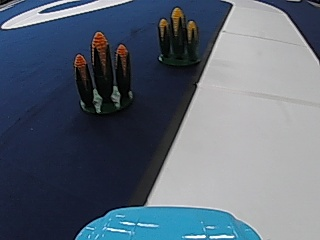corn: (72, 30, 136, 116), (154, 4, 202, 66)
